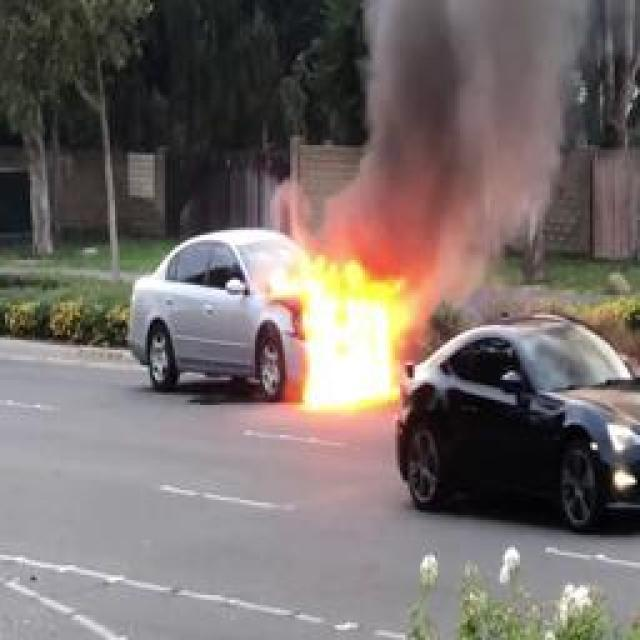Fire: (290, 278, 402, 430)
Smoke: (362, 0, 594, 199)
